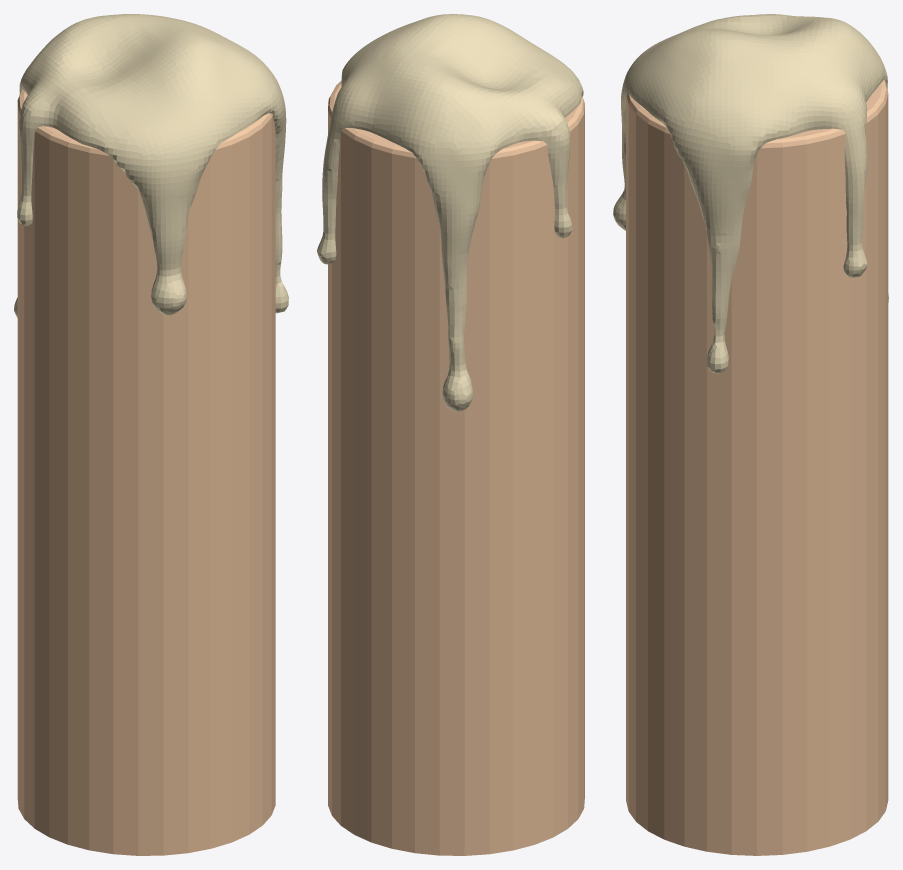
Rendered from Glilit.fbx.
The picture shows the model from 3 angles, left to right: view 1: azimuth 30°, elevation 25°; view 2: azimuth 150°, elevation 25°; view 3: azimuth 270°, elevation 25°; orthographic projection.
Visible parts, largest first — view 1: Cylinder, Sphere; view 2: Cylinder, Sphere; view 3: Cylinder, Sphere.
Boxes of the visible parts, x1,y1,x2,y2 form: Cylinder: [17, 89, 275, 855]; Sphere: [14, 14, 288, 317]; Cylinder: [328, 80, 584, 855]; Sphere: [317, 14, 583, 411]; Cylinder: [626, 80, 888, 855]; Sphere: [613, 14, 888, 373].
Size of the model in its own units: 217 by 655 by 210.
